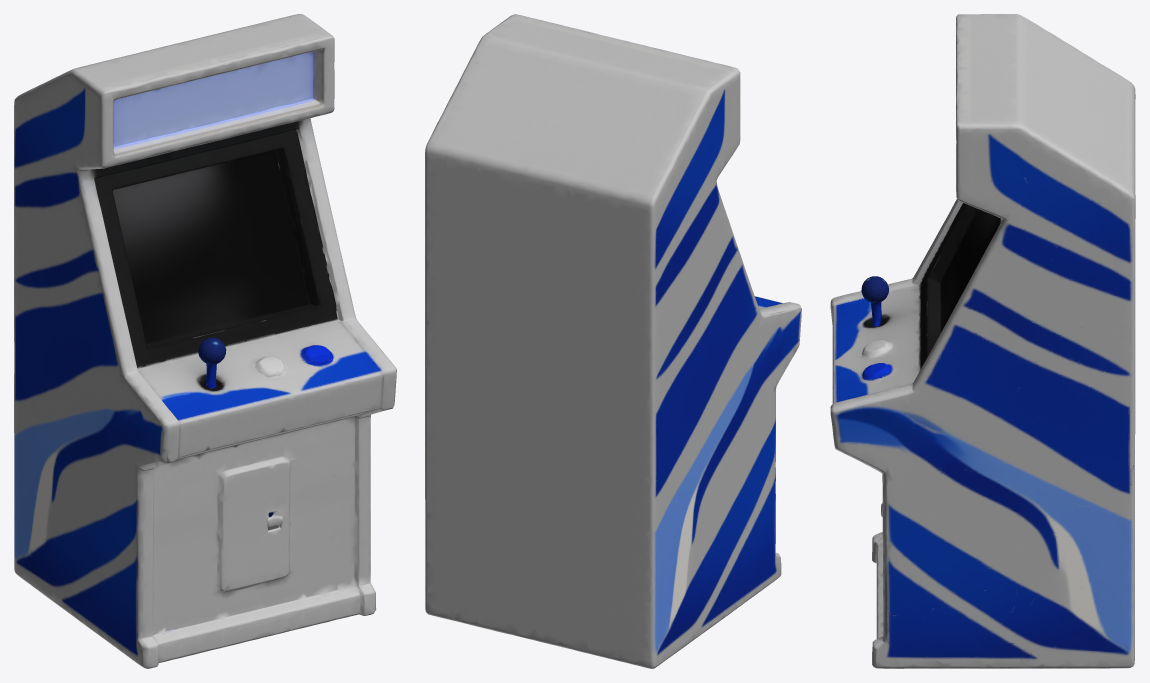
The model's file is 05_arcade_05_upright_neon_blue.glb.
The picture shows the model from 3 angles, left to right: view 1: azimuth 30°, elevation 25°; view 2: azimuth 150°, elevation 25°; view 3: azimuth 270°, elevation 25°; orthographic projection.
Parts seen in each view (by area): view 1: world; view 2: world; view 3: world.
Boxes of the visible parts, x1,y1,x2,y2 form: world: (14, 14, 396, 668); world: (425, 14, 801, 668); world: (830, 14, 1135, 668).
Size of the model in its own units: 0.4478 by 1 by 0.5093.
1 material, 1 textured.
